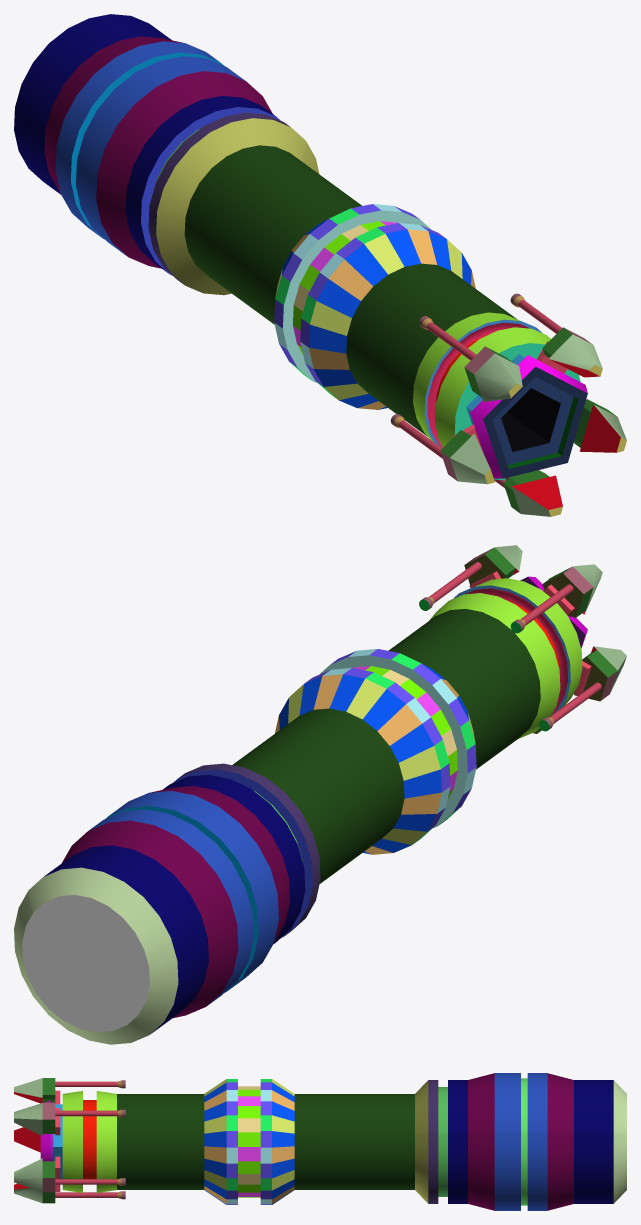
The model's file is CenterCannonIter3Colored.fbx.
The picture shows the model from 3 angles, top to bottom: view 1: azimuth 30°, elevation 25°; view 2: azimuth 150°, elevation 25°; view 3: azimuth 270°, elevation 25°; orthographic projection. The views are drawn at different scales.
Parts seen in each view (by area): view 1: Model; view 2: Model; view 3: Model.
Part boxes in pixels (x1,y1,x2,y2): Model: [14, 14, 626, 516]; Model: [14, 545, 626, 1044]; Model: [14, 1073, 626, 1210].
Size of the model in its own units: 126 by 126 by 559.
